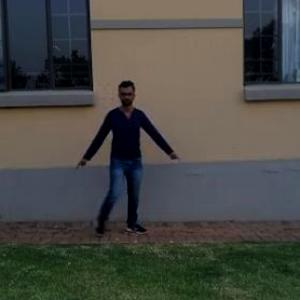land: (72, 76, 189, 252)
